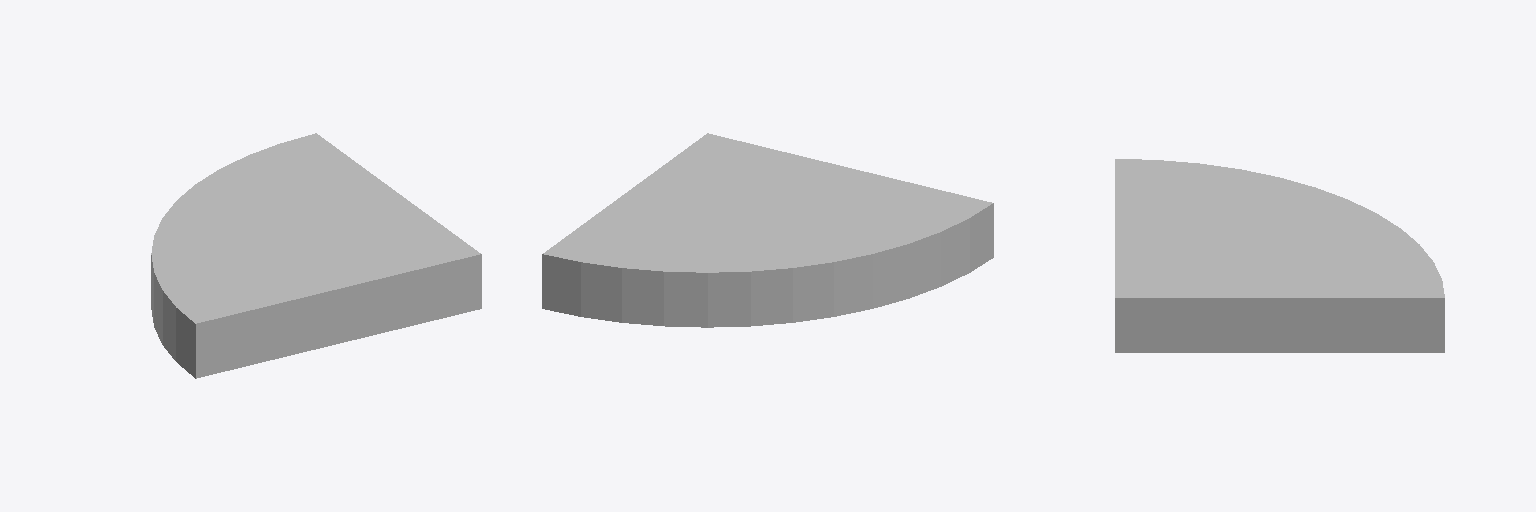
File: tile090.obj
The picture shows the model from 3 angles: view 1: azimuth 30°, elevation 25°; view 2: azimuth 150°, elevation 25°; view 3: azimuth 270°, elevation 25°; orthographic projection.
Visible parts, largest first — view 1: tile090; view 2: tile090; view 3: tile090.
Part boxes in pixels (x1,y1,x2,y2): tile090: (151, 133, 481, 378); tile090: (542, 133, 993, 327); tile090: (1115, 159, 1444, 352).
Size of the model in its own units: 1 by 0.1833 by 1.